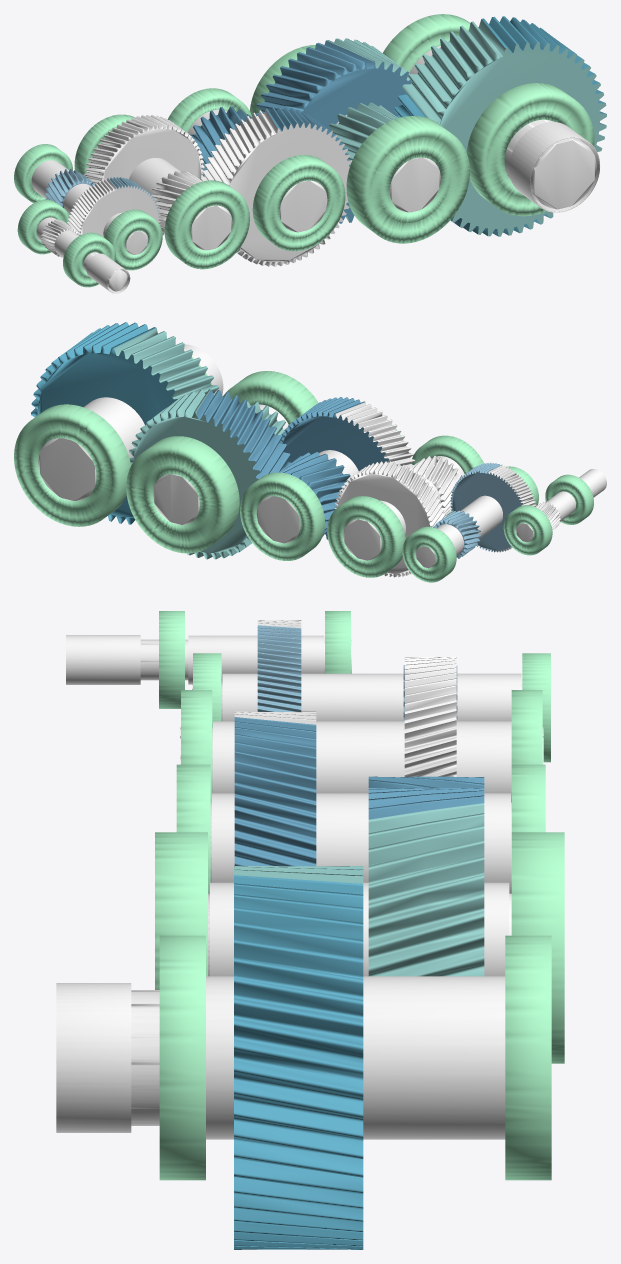
Rendered from gearbox5st.glb.
The picture shows the model from 3 angles, top to bottom: view 1: azimuth 30°, elevation 25°; view 2: azimuth 150°, elevation 25°; view 3: azimuth 270°, elevation 25°; orthographic projection. The views are drawn at different scales.
Visible parts, largest first — view 1: part9, part2, part8, part5, part3, part6, part10, part4, part7, part1; view 2: part9, part8, part5, part2, part7, part6, part1, part3, part4, part10; view 3: part8, part9, part7, part2, part5, part10, part6, part1, part3.
Part boxes in pixels (bbox=[...]): part9: bbox=[14, 14, 594, 287]; part2: bbox=[326, 19, 606, 236]; part8: bbox=[31, 45, 596, 291]; part5: bbox=[190, 40, 411, 233]; part3: bbox=[151, 109, 352, 266]; part6: bbox=[83, 115, 204, 235]; part10: bbox=[86, 122, 599, 293]; part4: bbox=[40, 178, 160, 257]; part7: bbox=[394, 16, 606, 236]; part1: bbox=[45, 168, 159, 220]; part9: bbox=[14, 357, 593, 582]; part8: bbox=[38, 397, 575, 568]; part5: bbox=[196, 389, 388, 539]; part2: bbox=[114, 328, 285, 559]; part7: bbox=[31, 322, 177, 524]; part6: bbox=[334, 461, 445, 577]; part1: bbox=[433, 462, 522, 558]; part3: bbox=[336, 402, 461, 515]; part4: bbox=[488, 465, 560, 551]; part10: bbox=[184, 344, 606, 497]; part8: bbox=[131, 635, 543, 1139]; part9: bbox=[155, 611, 564, 1180]; part7: bbox=[234, 875, 363, 1249]; part2: bbox=[234, 803, 484, 976]; part5: bbox=[234, 717, 484, 866]; part10: bbox=[56, 635, 140, 1132]; part6: bbox=[404, 657, 456, 776]; part1: bbox=[257, 625, 457, 721]; part3: bbox=[234, 700, 456, 776].
Size of the model in its own units: 869 by 282 by 374.
